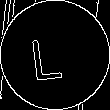L_N: (36, 28, 74, 82)
